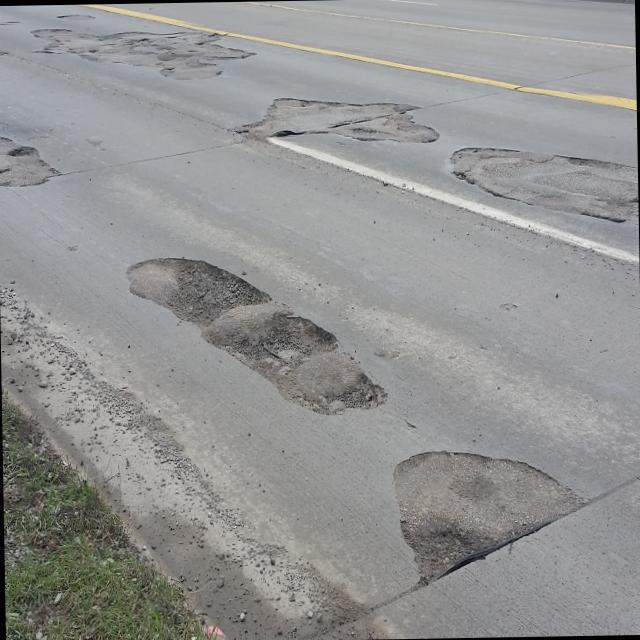Pothole: (128, 264, 398, 419), (378, 427, 571, 595), (450, 121, 638, 251), (0, 17, 266, 101), (229, 90, 451, 162), (0, 133, 88, 214)
